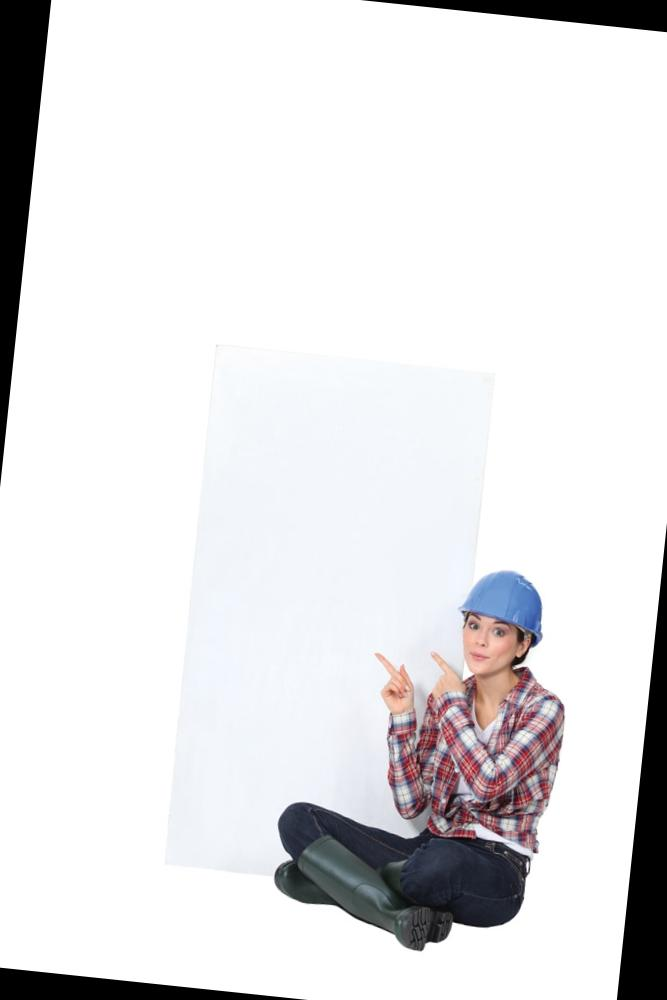helmet: (454, 562, 551, 640)
no_wear: (410, 666, 553, 853)
